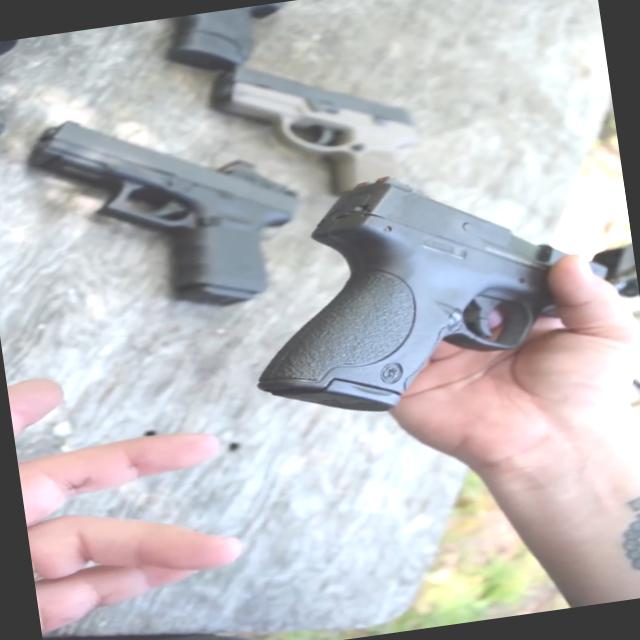handgun: (219, 144, 632, 473), (13, 78, 319, 336), (213, 46, 415, 226)
